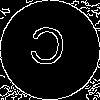C: (25, 25, 68, 76)
